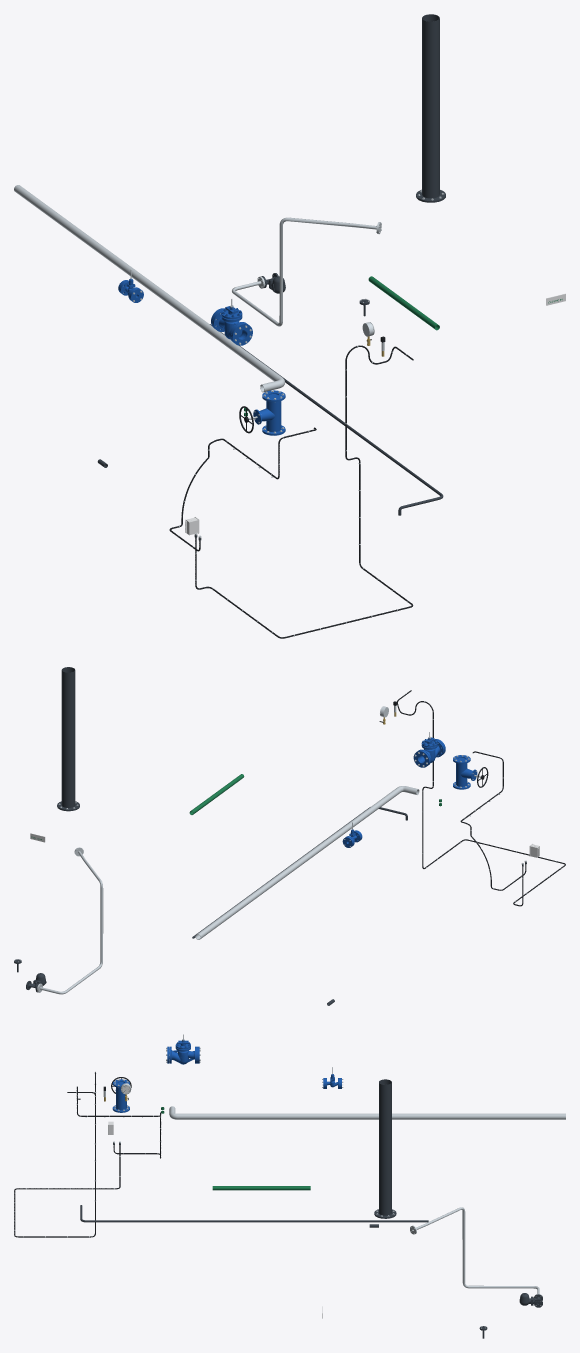
The model's file is s4000-4-CLbjOVSh.glb.
3 views of the same model, one above another, from view 1: azimuth 30°, elevation 25°; view 2: azimuth 150°, elevation 25°; view 3: azimuth 270°, elevation 25° (orthographic). The views are drawn at different scales.
Visible parts, largest first — view 1: bdv_vent / dark, safety_vent_2 / steel, wiring_pressure_switch_1 / black, trap_gap_to_bdv / steel, steam_manual / blue, tds_common / dark; view 2: bdv_vent / dark, safety_vent_2 / steel, wiring_pressure_switch_1 / black, trap_gap_to_bdv / steel, steam_manual / blue, gpz CAD solid 0, wiring_lcs600 / black; view 3: safety_vent_2 / steel, bdv_vent / dark, tds_common / dark, trap_gap_to_bdv / steel, wiring_pressure_switch_1 / black, gpz CAD solid 0, pump_delivery / green.
Boxes of the visible parts, x1=… form: bdv_vent / dark: x1=416, y1=14, x2=445, y2=202; safety_vent_2 / steel: x1=14, y1=185, x2=284, y2=392; wiring_pressure_switch_1 / black: x1=195, y1=345, x2=413, y2=638; trap_gap_to_bdv / steel: x1=232, y1=217, x2=381, y2=326; steam_manual / blue: x1=253, y1=390, x2=285, y2=435; tds_common / dark: x1=210, y1=324, x2=443, y2=515; bdv_vent / dark: x1=57, y1=667, x2=79, y2=811; safety_vent_2 / steel: x1=195, y1=786, x2=419, y2=939; wiring_pressure_switch_1 / black: x1=397, y1=690, x2=565, y2=906; trap_gap_to_bdv / steel: x1=37, y1=847, x2=103, y2=994; steam_manual / blue: x1=453, y1=755, x2=477, y2=789; gpz CAD solid 0: x1=418, y1=732, x2=444, y2=764; wiring_lcs600 / black: x1=460, y1=751, x2=526, y2=890; safety_vent_2 / steel: x1=169, y1=1106, x2=565, y2=1119; bdv_vent / dark: x1=374, y1=1079, x2=396, y2=1218; tds_common / dark: x1=80, y1=1205, x2=428, y2=1222; trap_gap_to_bdv / steel: x1=410, y1=1207, x2=542, y2=1296; wiring_pressure_switch_1 / black: x1=14, y1=1072, x2=120, y2=1237; gpz CAD solid 0: x1=169, y1=1034, x2=196, y2=1064; pump_delivery / green: x1=212, y1=1186, x2=310, y2=1190.
Size of the model in its own units: 5.68 by 3.75 by 7.03.
